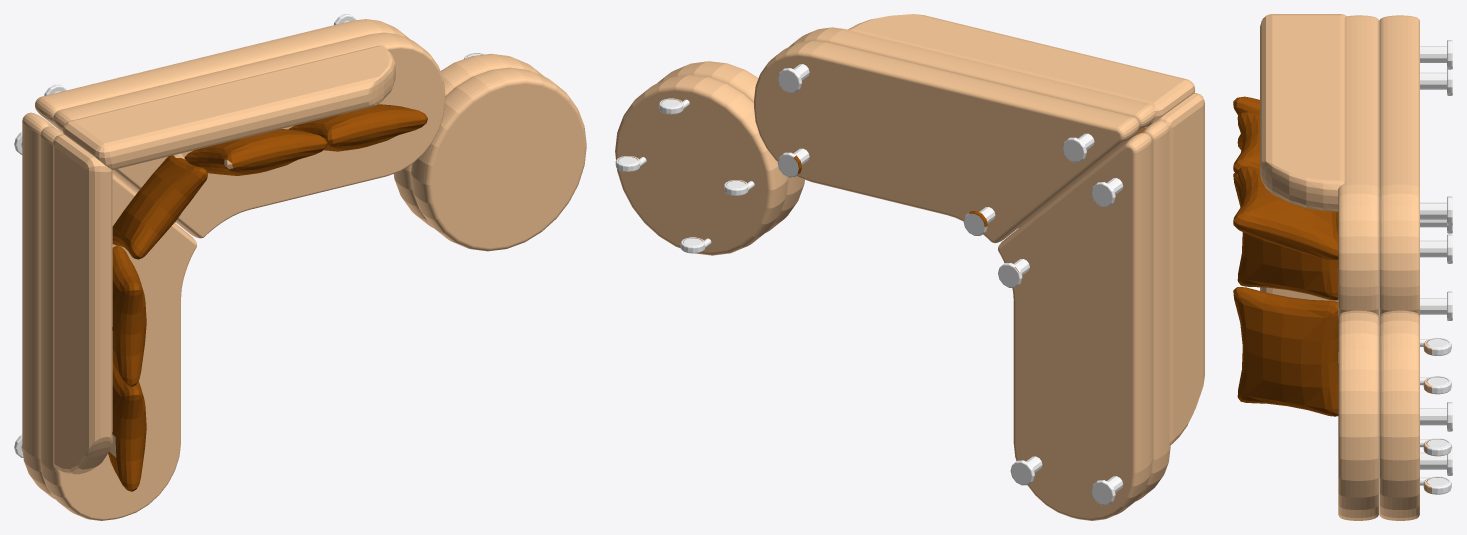
3 renders of one model, left to right at view 1: azimuth 30°, elevation 25°; view 2: azimuth 150°, elevation 25°; view 3: azimuth 270°, elevation 25°, orthographic. The views are drawn at different scales.
Visible parts, largest first — view 1: sofa; view 2: sofa; view 3: sofa.
Part boxes in pixels (left/top/right/bottom): sofa: left=14, top=14, right=586, bottom=520; sofa: left=615, top=14, right=1204, bottom=520; sofa: left=1233, top=14, right=1452, bottom=520.
Size of the model in its own units: 117 by 86.32 by 37.71.
